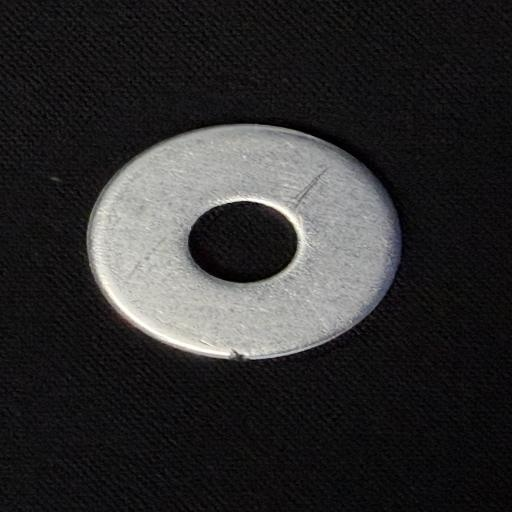Scratch: (288, 166, 338, 214)
chip off: (213, 344, 257, 372)
